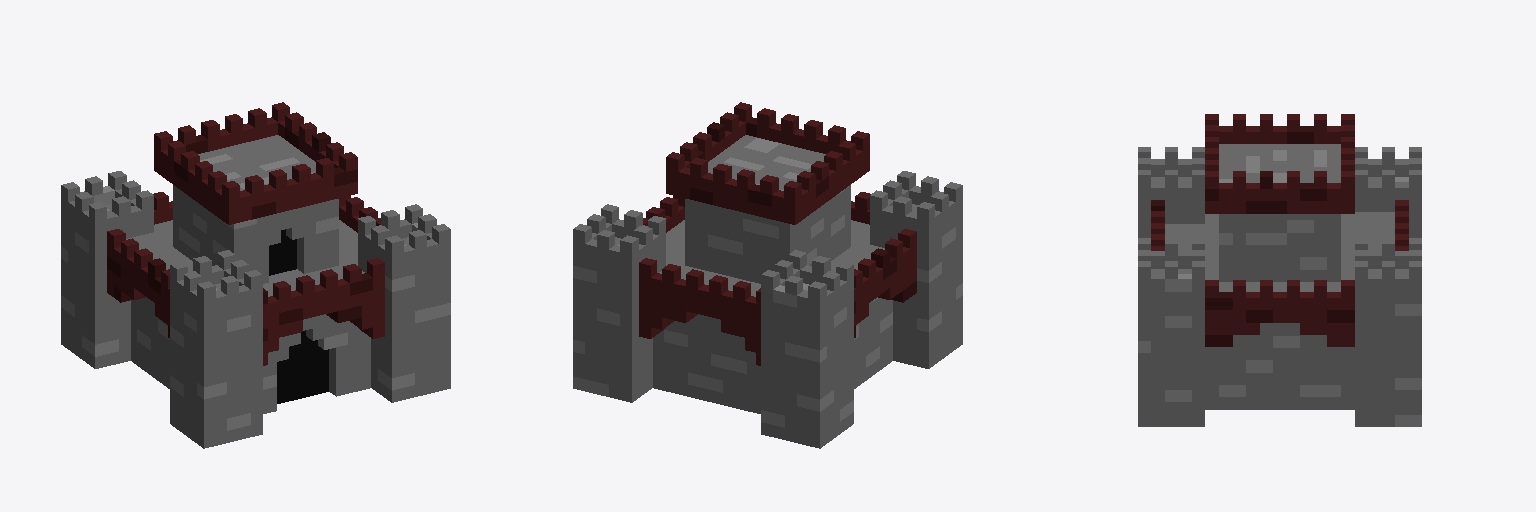
The picture shows the model from 3 angles: view 1: azimuth 30°, elevation 25°; view 2: azimuth 150°, elevation 25°; view 3: azimuth 270°, elevation 25°; orthographic projection.
Visible parts, largest first — view 1: object 1; view 2: object 1; view 3: object 1.
Boxes of the visible parts, box(x1,y1,x2,y2) form: object 1: box(61, 102, 450, 448); object 1: box(573, 102, 962, 448); object 1: box(1138, 114, 1421, 426).
Size of the model in its own units: 2.1 by 1.8 by 2.1.
Materials: 1 (1 with a texture image).